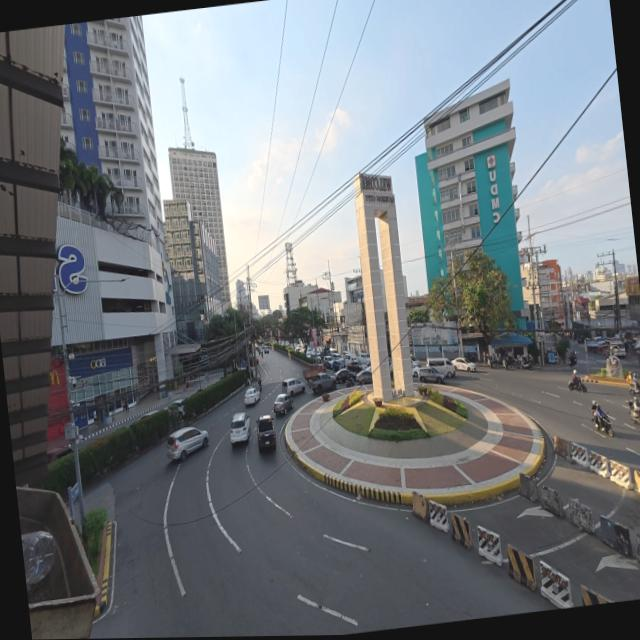car: (166, 427, 208, 461), (229, 412, 250, 444), (418, 367, 443, 385), (46, 446, 72, 463), (273, 394, 293, 416), (451, 357, 475, 371), (335, 368, 355, 384), (137, 408, 160, 420), (244, 387, 259, 405), (168, 399, 184, 415), (356, 370, 371, 385), (346, 360, 363, 373), (322, 355, 333, 370), (316, 347, 332, 357), (332, 358, 344, 370), (411, 364, 420, 377), (329, 350, 342, 359), (410, 359, 420, 368), (305, 348, 312, 357), (263, 346, 269, 354), (255, 357, 258, 363)
motorcycle: (591, 414, 613, 437), (626, 401, 639, 424), (501, 354, 517, 369), (567, 380, 586, 392), (566, 351, 576, 367), (488, 356, 501, 368), (519, 356, 531, 369), (545, 353, 558, 364), (628, 384, 639, 396), (258, 380, 261, 391), (638, 357, 639, 366)
trucks: (256, 415, 276, 452), (308, 373, 336, 393), (302, 365, 323, 384)
vans: (427, 358, 454, 378), (281, 379, 304, 396), (610, 343, 625, 358), (343, 352, 356, 366)
